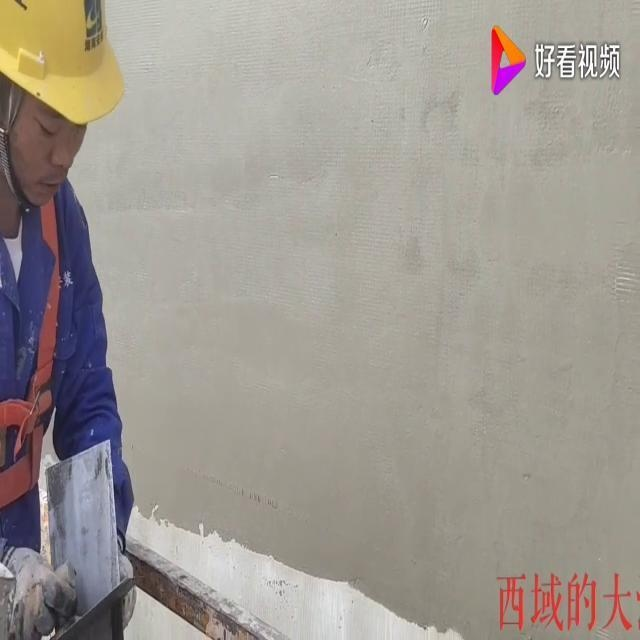Arnes_seguridad: (0, 174, 80, 520)
